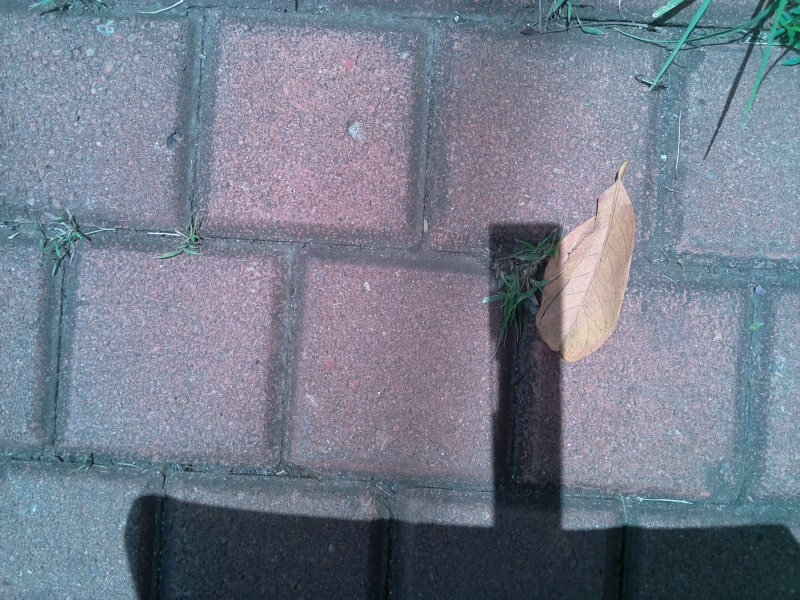Weed: (490, 241, 550, 332), (36, 218, 90, 260), (163, 225, 208, 256), (68, 454, 120, 478)
